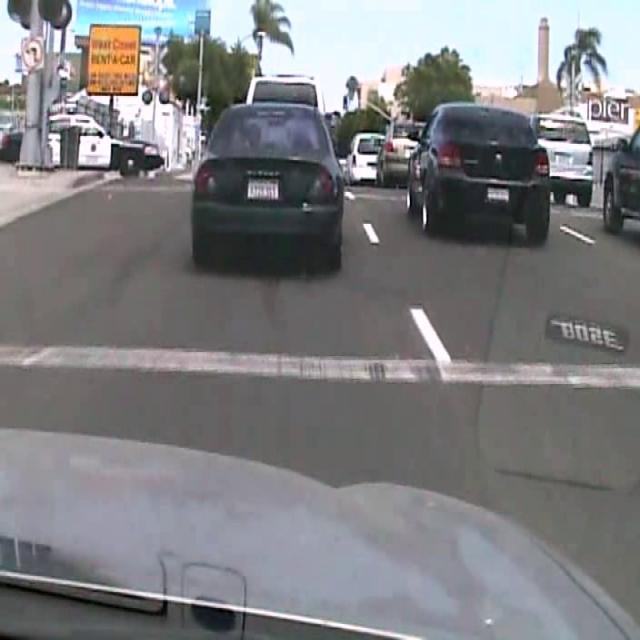noLeftTurn: (20, 35, 45, 69)
